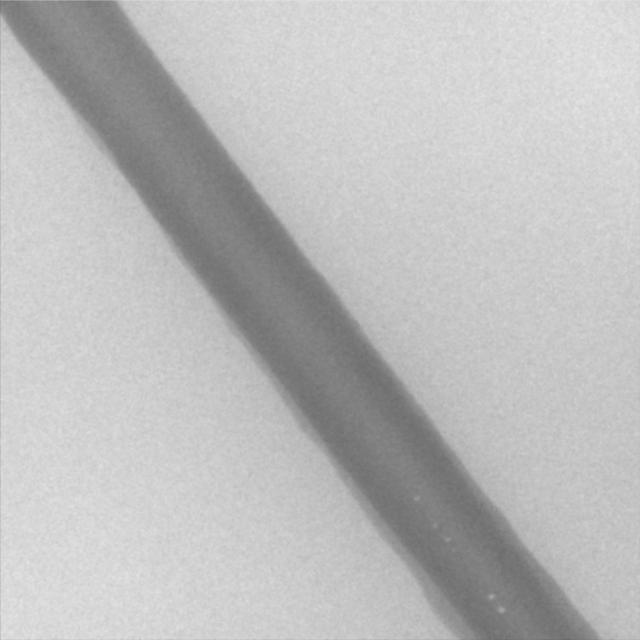air hole: (497, 605, 505, 616), (487, 592, 496, 601)
